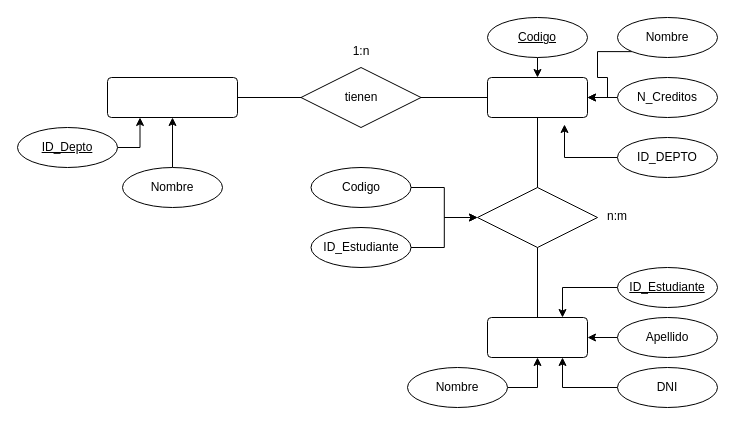
Image size: 735x425. Some labels were removed from this diagram. Each missing label, with the centre of its shape:
"CURSOS" goes at point (537, 97).
"DEPARTAMENTOS" goes at point (172, 97).
"ESTUDIANTES" goes at point (537, 337).
"se matriculan" goes at point (537, 217).
